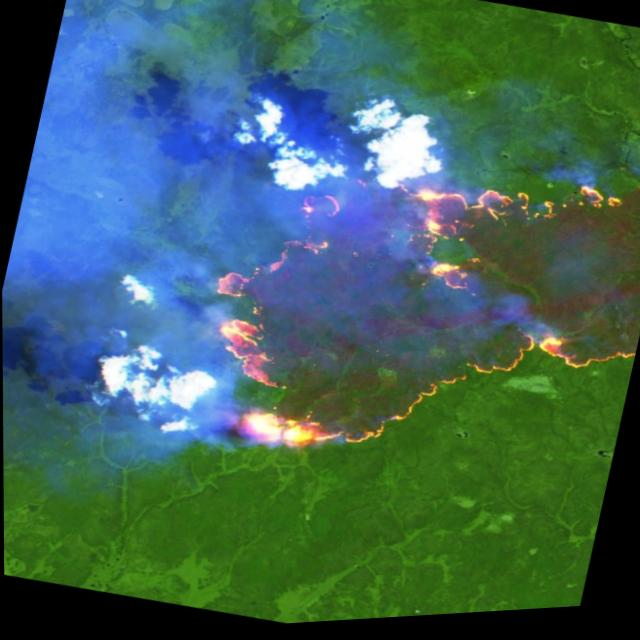fire: (170, 91, 640, 530)
